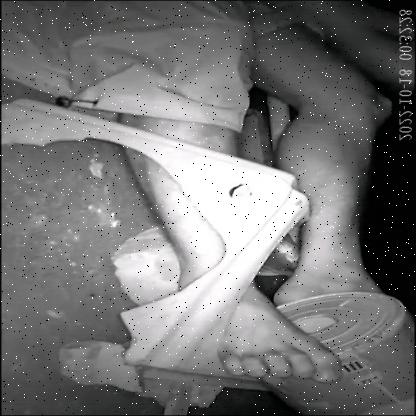leg: (254, 31, 399, 306), (206, 288, 355, 396)
